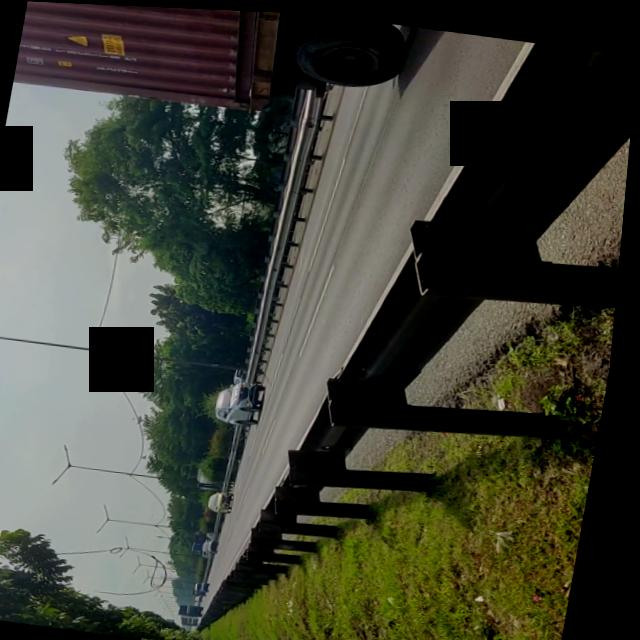Golongan I: (216, 371, 277, 429)
